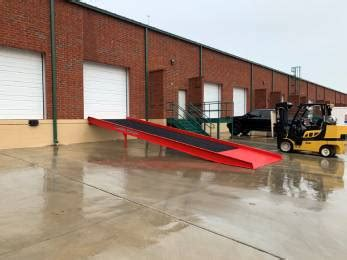Pallet Jack: (275, 102, 347, 160)
Yard Ramp: (88, 116, 282, 169)
